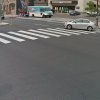crosswalk: (0, 27, 98, 44)
